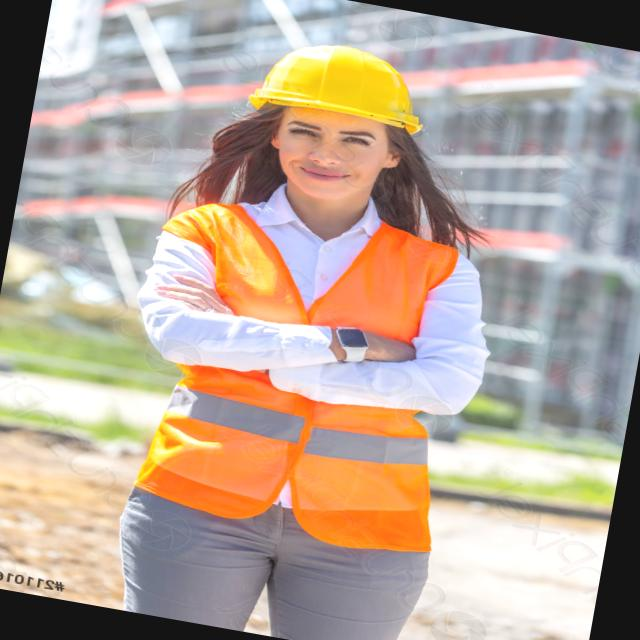helmet: (238, 20, 431, 144)
no-goggles: (255, 102, 400, 162)
vest: (130, 184, 472, 555)
